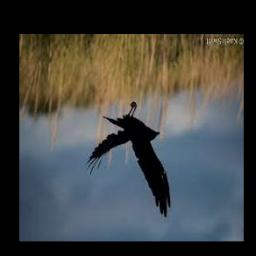Crow: (86, 100, 172, 218)
